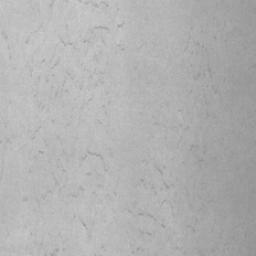Silk spot: (88, 26, 109, 37), (81, 150, 104, 160), (60, 38, 77, 49), (78, 0, 99, 8), (44, 248, 65, 256), (160, 182, 174, 190), (155, 165, 166, 175), (193, 73, 205, 80)
